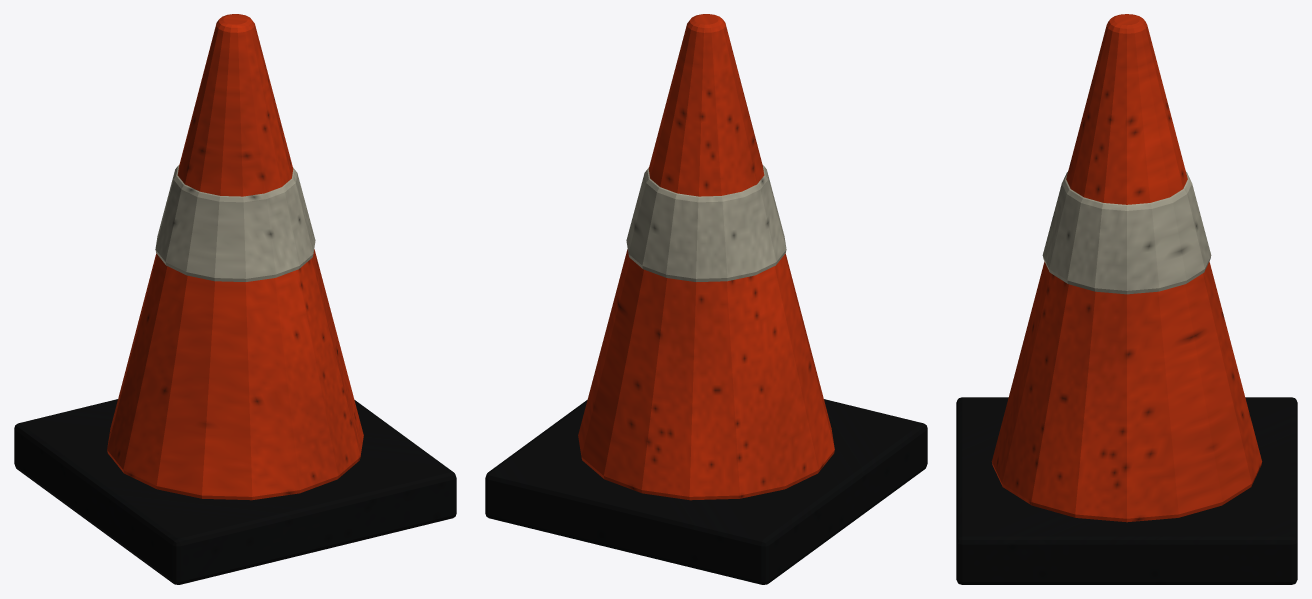
Rendered from PROP-137C8FF83416_lod0.glb.
3 renders of one model, left to right at view 1: azimuth 30°, elevation 25°; view 2: azimuth 150°, elevation 25°; view 3: azimuth 270°, elevation 25°, orthographic. The views are drawn at different scales.
Visible parts, largest first — view 1: cone, cone_base, cone_reflector; view 2: cone, cone_base, cone_reflector; view 3: cone, cone_base, cone_reflector.
Boxes of the visible parts, left/top/right/bottom form: cone: left=107, top=14, right=363, bottom=500; cone_base: left=14, top=399, right=456, bottom=584; cone_reflector: left=155, top=165, right=315, bottom=281; cone: left=578, top=14, right=834, bottom=500; cone_base: left=485, top=399, right=927, bottom=584; cone_reflector: left=626, top=165, right=786, bottom=281; cone: left=991, top=14, right=1262, bottom=522; cone_base: left=956, top=397, right=1297, bottom=584; cone_reflector: left=1042, top=172, right=1211, bottom=294.
Size of the model in its own units: 0.45 by 0.72 by 0.45.
3 materials, 3 textured.
